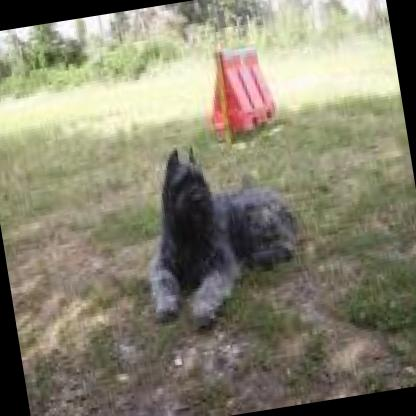Bouvier_des_Flandres: (119, 124, 312, 328)
